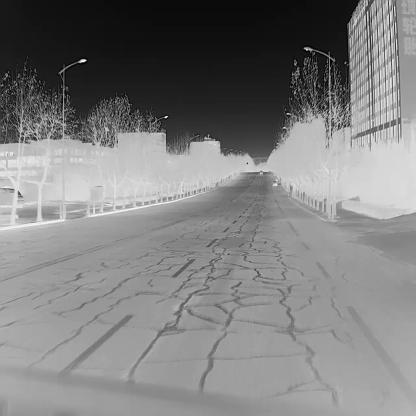car: (0, 186, 27, 210), (272, 180, 277, 186), (259, 169, 263, 175)
